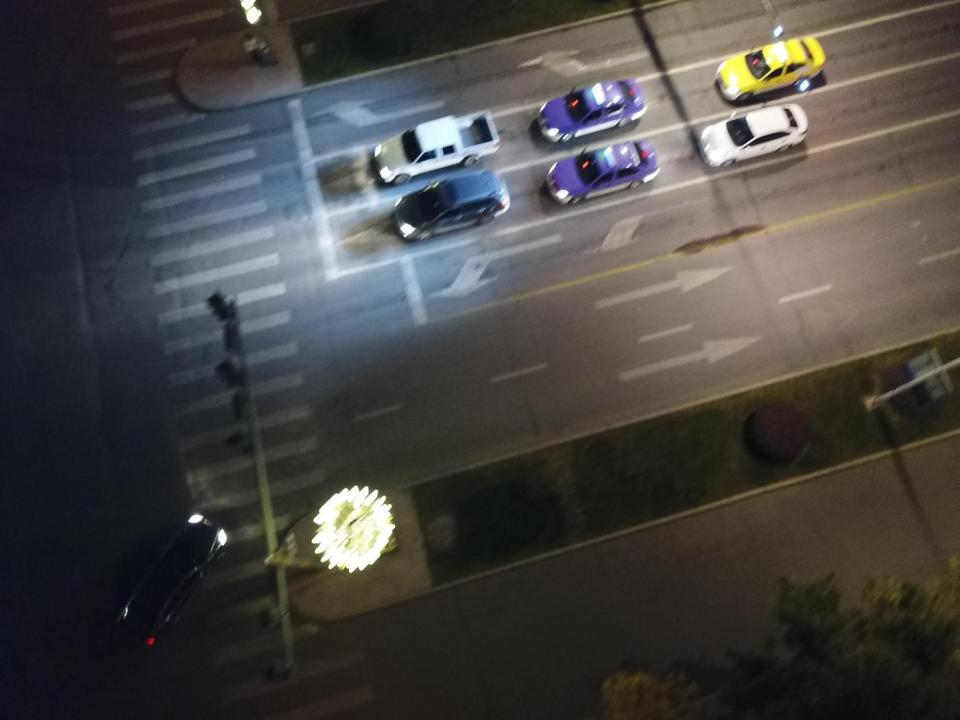car: (114, 514, 228, 648), (394, 170, 512, 243), (546, 137, 659, 204), (536, 77, 645, 145), (717, 37, 824, 103), (700, 104, 807, 170)
truck: (371, 108, 498, 183)
